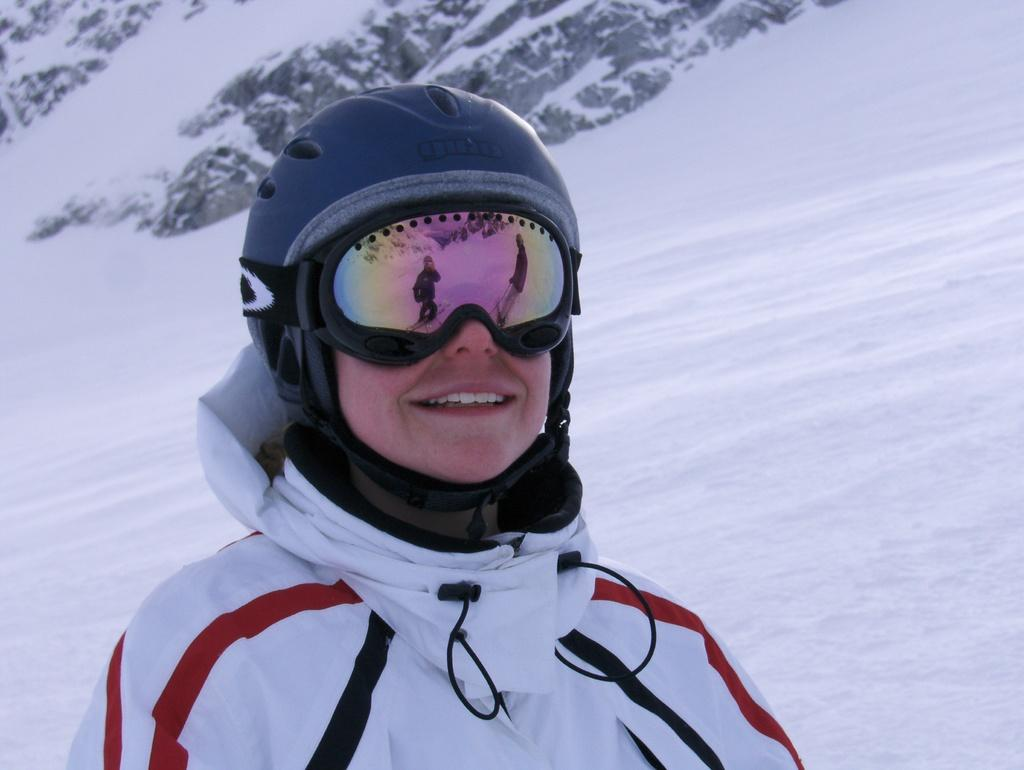helmet: (239, 82, 581, 480)
